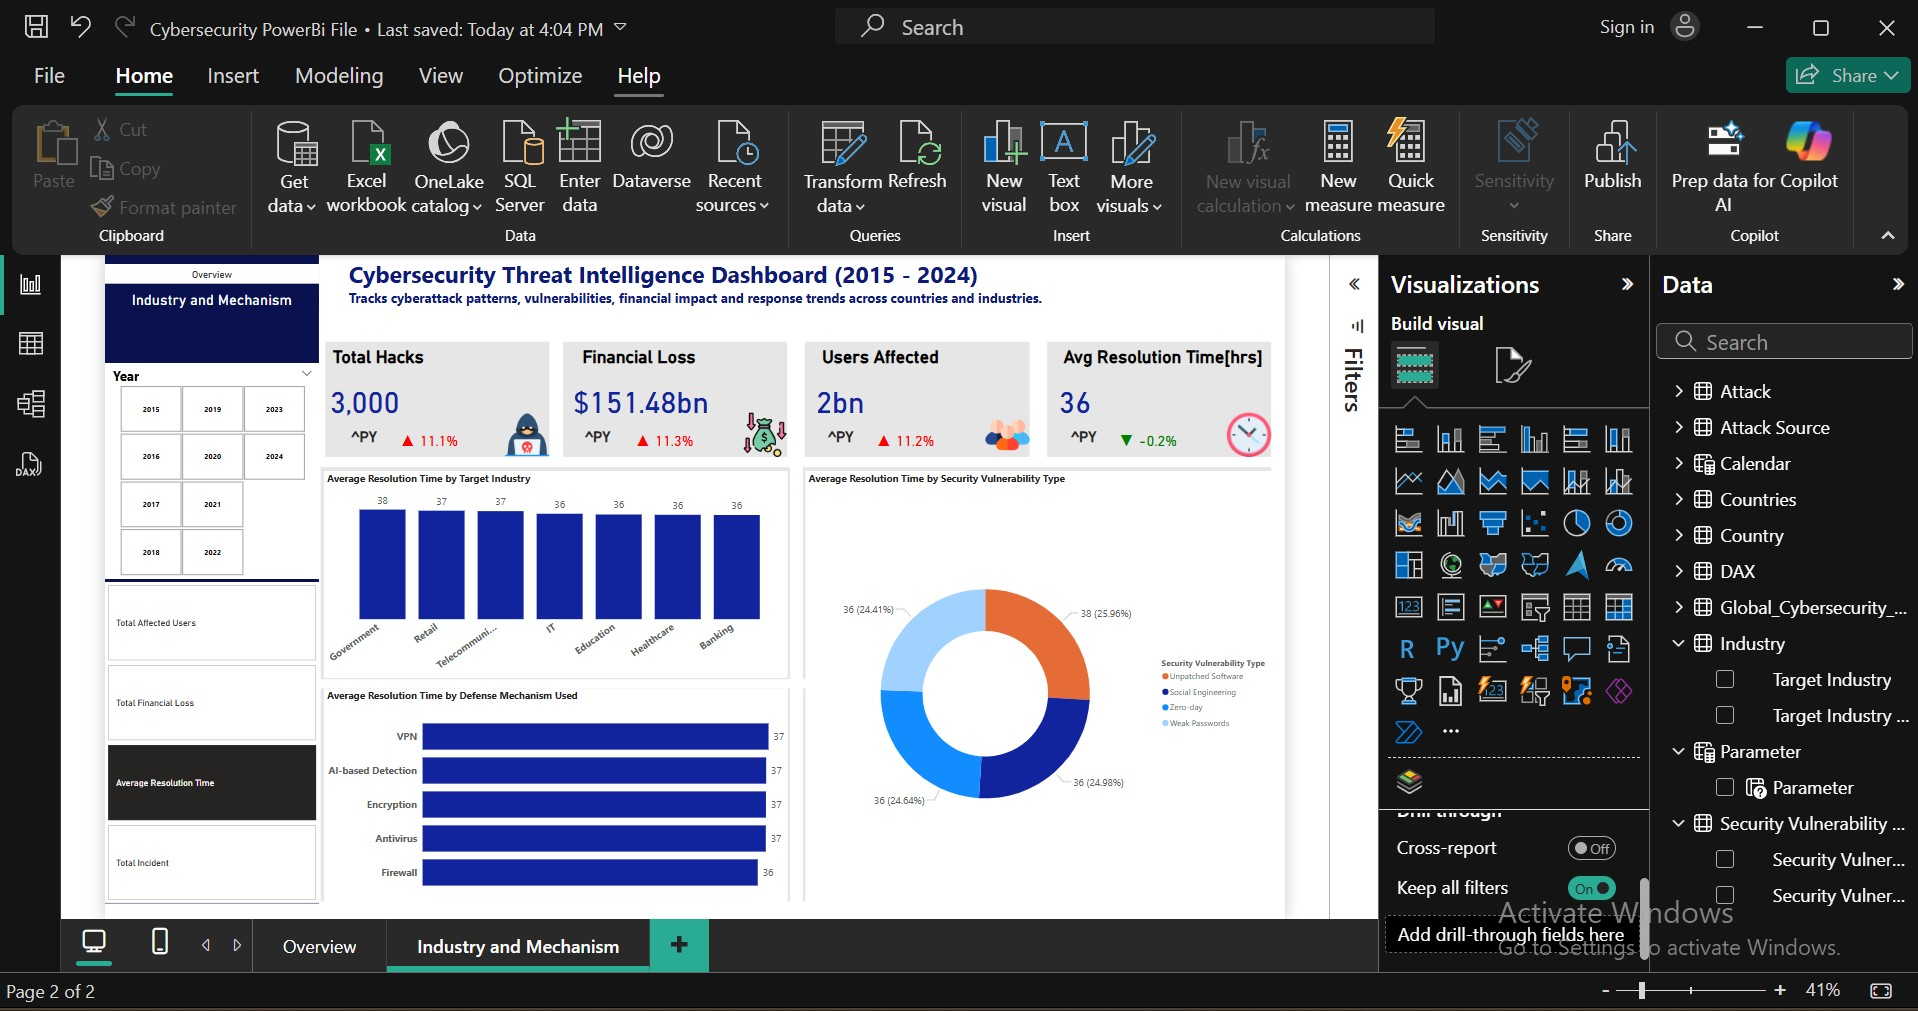

The dashboard page shown, as its layout file describes it:
{"tool":"powerbi","page":{"name":"Industry and Mechanism","canvas":[1920,1080],"ordinal":1},"visuals":[{"type":"shape","box":[0,0,348.2,1055],"z":0},{"type":"cardVisual","title":"Total Hacks","fields":{"Data":["DAX.Count"]},"box":[348.2,143.9,379.5,183.5],"z":1000},{"type":"cardVisual","title":"Total Hacks","fields":{"Data":["DAX.Total Financial Loss"]},"box":[743.3,143.6,365.4,183.9],"z":2000},{"type":"cardVisual","title":"Total Hacks","fields":{"Data":["DAX.Total Affected Users"]},"box":[1138.9,143.6,365.4,183.9],"z":3000},{"type":"cardVisual","title":"Total Hacks","fields":{"Data":["DAX.Average Resolution Time"]},"box":[1534.5,143.6,365.4,183.9],"z":4000},{"type":"textbox","box":[355.3,143.6,176.4,47.9],"z":5000},{"type":"textbox","box":[750.9,143.6,234.3,47.9],"z":6000},{"type":"textbox","box":[1146.5,143.6,229.3,47.9],"z":7000},{"type":"card","fields":{"Values":["DAX.Count YoY"]},"box":[460.5,275.2,135.7,52.1],"z":8000,"group":"g1"},{"type":"textbox","box":[1542,143.6,357.8,47.9],"z":8000},{"type":"card","fields":{"Values":["DAX.Financial Loss YoY"]},"box":[834,275.2,150.1,52.1],"z":9000},{"type":"textbox","box":[354.4,275.2,135.7,52.1],"z":9001,"group":"g1"},{"type":"card","fields":{"Values":["DAX.Affected Users YoY"]},"box":[1228,275.2,148,52.1],"z":10000},{"type":"card","fields":{"Values":["DAX.Resolution time YoY"]},"box":[1624.2,275.2,141.8,52.1],"z":11000},{"type":"slicer","fields":{"Values":["Calendar.Year"]},"box":[0,207.4,348.9,192.7],"z":12000},{"type":"textbox","box":[744.3,275.2,114.7,52.1],"z":13000},{"type":"textbox","box":[1138.4,275.2,114.7,52.1],"z":14000},{"type":"textbox","box":[1534.5,275.2,114.7,52.1],"z":15000},{"type":"group","id":"g1","title":"Group 1","box":[354.4,275.2,241.9,52.1],"z":16000},{"type":"pageNavigator","box":[0,14.6,348.9,75.6],"z":19000},{"type":"textbox","box":[351.3,0,1217.5,107.4],"z":21000},{"type":"barChart","box":[402.6,351.3,466,300.1],"z":22000},{"type":"advancedSlicerVisual","fields":{"Values":["Parameter 2 2.Parameter 2"]},"box":[0,578.2,348.9,456.2],"z":22001}]}

Visuals, with their boxes on the page's 1920x1080 design canvas (x1, y1, x2, y2). These are canvas units, not pixel positions in the 1918x1011 screenshot, which may show the page scaled, cropped or inside an application window:
shape: (x1=0, y1=0, x2=348, y2=1055)
"Total Hacks" cardVisual: (x1=348, y1=144, x2=728, y2=327)
"Total Hacks" cardVisual: (x1=743, y1=144, x2=1109, y2=328)
"Total Hacks" cardVisual: (x1=1139, y1=144, x2=1504, y2=328)
"Total Hacks" cardVisual: (x1=1534, y1=144, x2=1900, y2=328)
textbox: (x1=355, y1=144, x2=532, y2=192)
textbox: (x1=751, y1=144, x2=985, y2=192)
textbox: (x1=1146, y1=144, x2=1376, y2=192)
card - DAX.Count YoY: (x1=460, y1=275, x2=596, y2=327)
textbox: (x1=1542, y1=144, x2=1900, y2=192)
card - DAX.Financial Loss YoY: (x1=834, y1=275, x2=984, y2=327)
textbox: (x1=354, y1=275, x2=490, y2=327)
card - DAX.Affected Users YoY: (x1=1228, y1=275, x2=1376, y2=327)
card - DAX.Resolution time YoY: (x1=1624, y1=275, x2=1766, y2=327)
slicer - Calendar.Year: (x1=0, y1=207, x2=349, y2=400)
textbox: (x1=744, y1=275, x2=859, y2=327)
textbox: (x1=1138, y1=275, x2=1253, y2=327)
textbox: (x1=1534, y1=275, x2=1649, y2=327)
"Group 1" group: (x1=354, y1=275, x2=596, y2=327)
pageNavigator: (x1=0, y1=15, x2=349, y2=90)
textbox: (x1=351, y1=0, x2=1569, y2=107)
barChart: (x1=403, y1=351, x2=869, y2=651)
advancedSlicerVisual - Parameter 2 2.Parameter 2: (x1=0, y1=578, x2=349, y2=1034)
